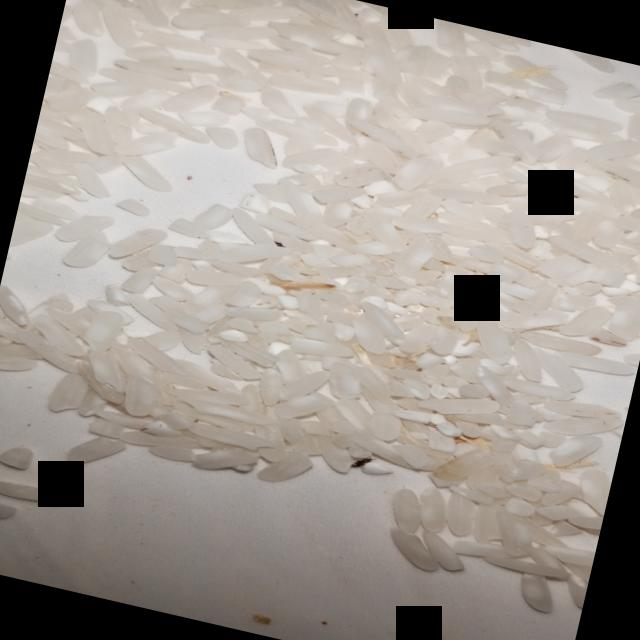Bulir_padi: (266, 266, 342, 303)
Kerikil: (550, 184, 586, 202), (261, 233, 291, 252)
Kutu_beras: (344, 449, 376, 478)
